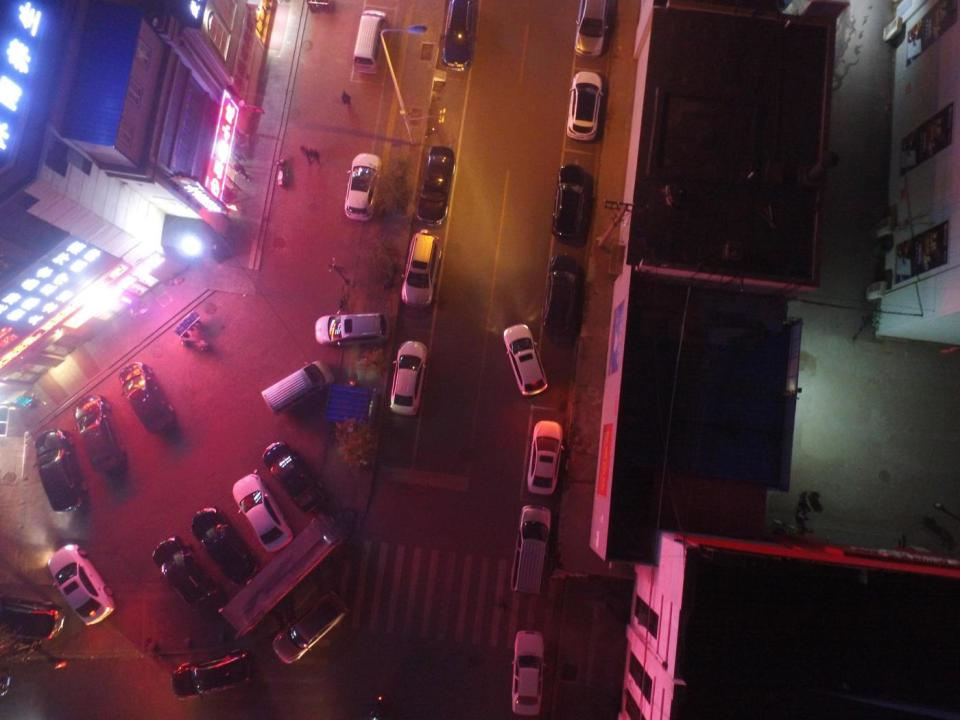car: (47, 545, 116, 626), (273, 590, 347, 664), (152, 536, 220, 609), (191, 508, 256, 584), (232, 472, 291, 552), (33, 427, 87, 514), (172, 647, 255, 700), (262, 442, 324, 511), (74, 394, 126, 473), (119, 361, 175, 433), (503, 324, 548, 396), (417, 147, 455, 227), (542, 254, 579, 331), (526, 420, 564, 494), (512, 631, 545, 716), (390, 341, 426, 415), (315, 311, 389, 347), (565, 71, 602, 140), (344, 154, 382, 220), (553, 165, 584, 238)
van: (262, 360, 333, 414), (508, 506, 550, 595), (402, 230, 442, 306), (2, 598, 65, 640), (441, 0, 476, 70), (354, 11, 387, 74), (576, 0, 608, 56)
